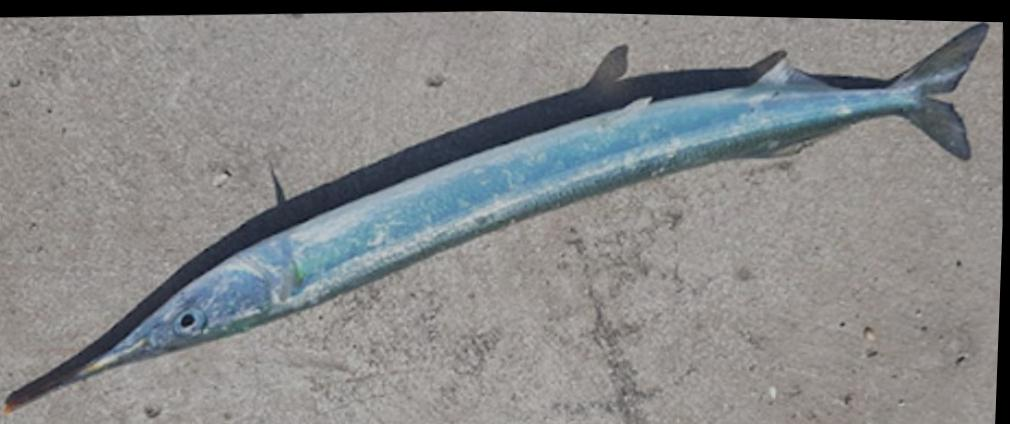fish: (5, 17, 992, 410)
